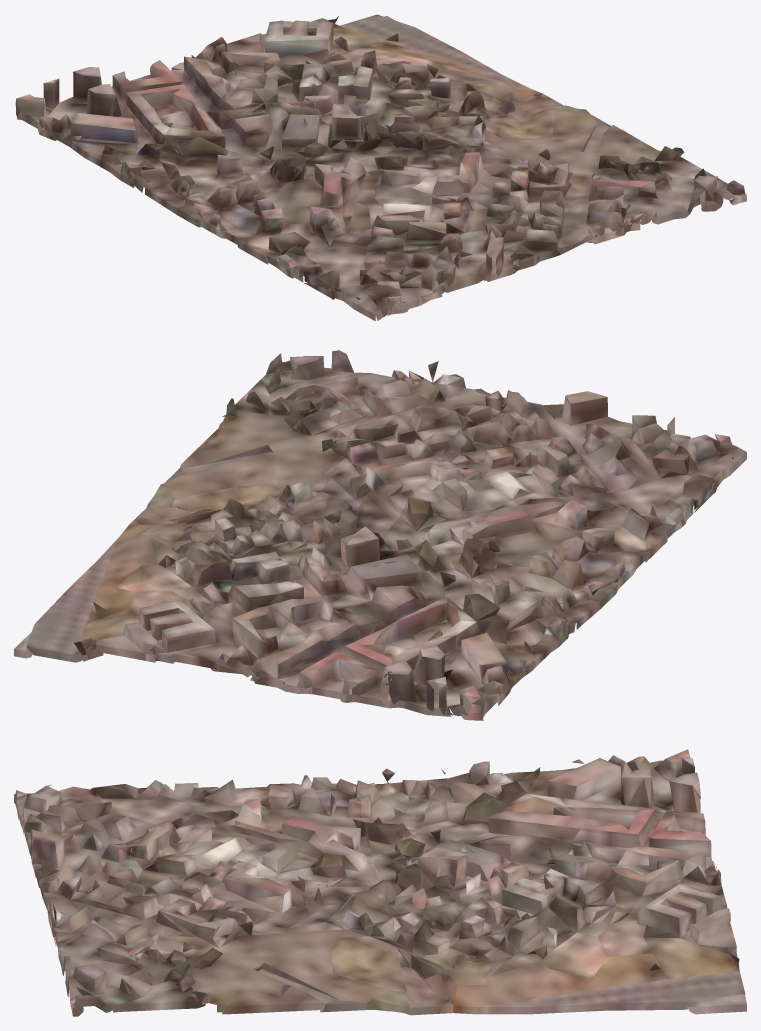
3 renders of one model, top to bottom at view 1: azimuth 30°, elevation 25°; view 2: azimuth 150°, elevation 25°; view 3: azimuth 270°, elevation 25°, orthographic. The views are drawn at different scales.
Parts seen in each view (by area): view 1: Mesh_0; view 2: Mesh_0; view 3: Mesh_0.
Boxes of the visible parts, x1=… form: Mesh_0: x1=15, y1=14, x2=746, y2=321; Mesh_0: x1=14, y1=350, x2=746, y2=720; Mesh_0: x1=14, y1=749, x2=746, y2=1016.
Size of the model in its own units: 535 by 66.79 by 659.
2 materials, 2 textured.
